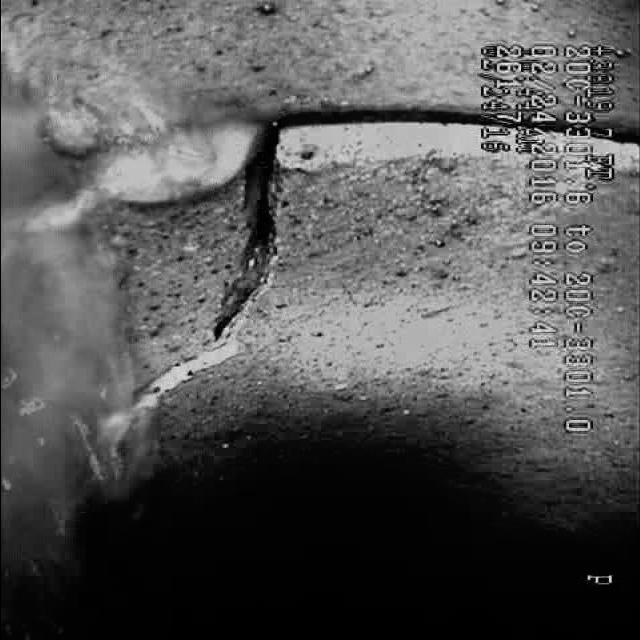Fracture: (128, 139, 362, 423)
